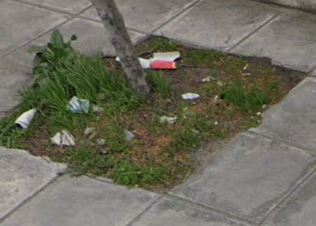trash: (112, 46, 186, 73), (63, 93, 106, 118), (12, 101, 39, 134), (47, 123, 78, 151), (155, 112, 185, 127), (179, 91, 203, 100)
